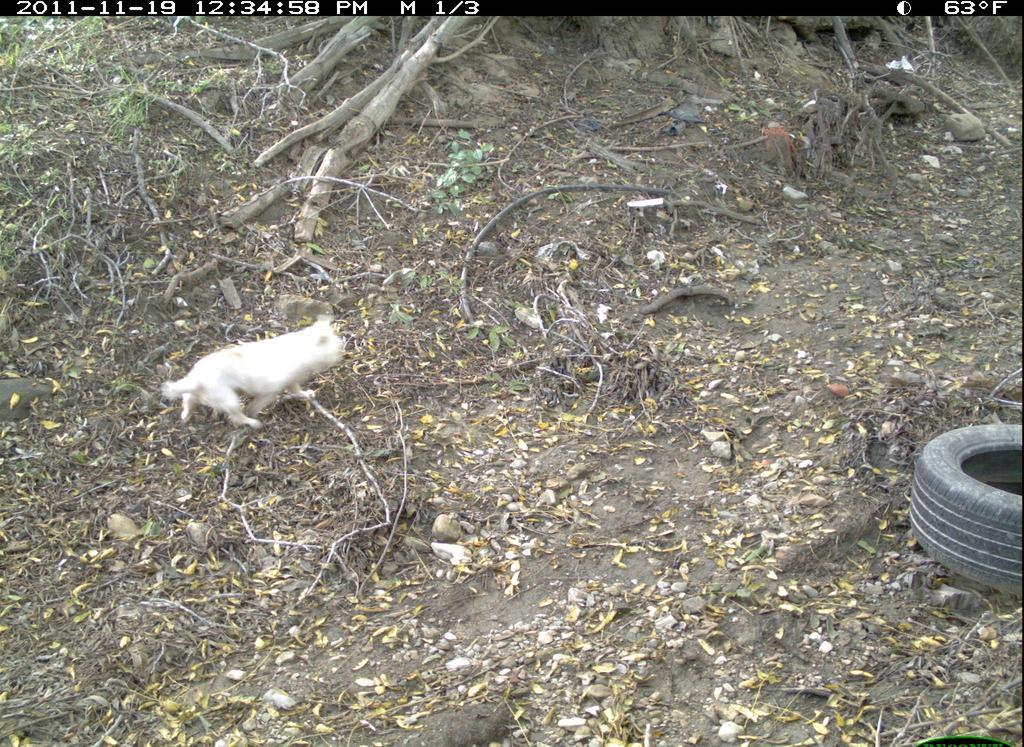dog: (157, 314, 350, 436)
